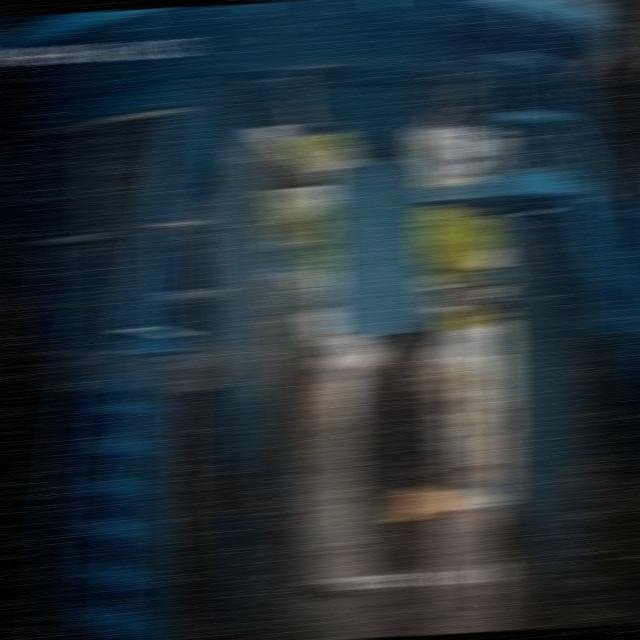cement_mixer_truck: (344, 261, 456, 474)
